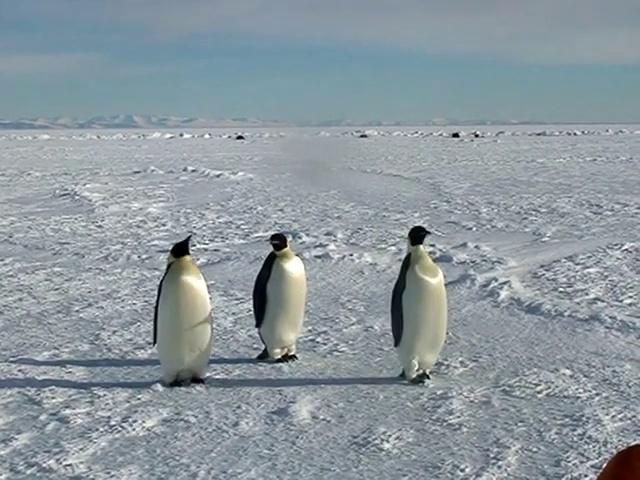animal: (391, 226, 446, 383)
